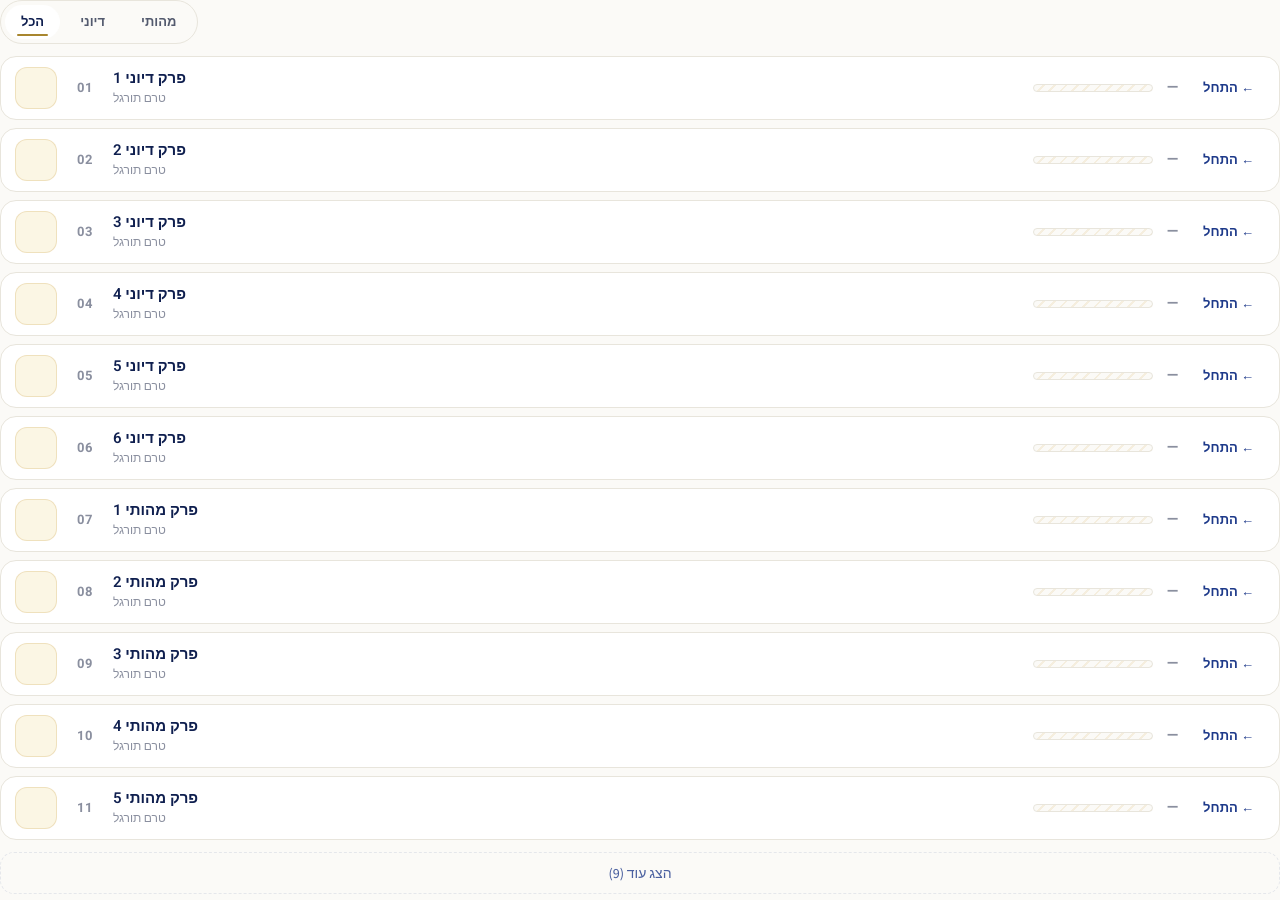
Test: MasteryRowsClient › switching the filter resets the collapsed view (showAll → false)
The image size is (1280, 900).
Click the button with test id "mastery-toggle-desktop": (640, 872) [0, 852, 1279, 894]
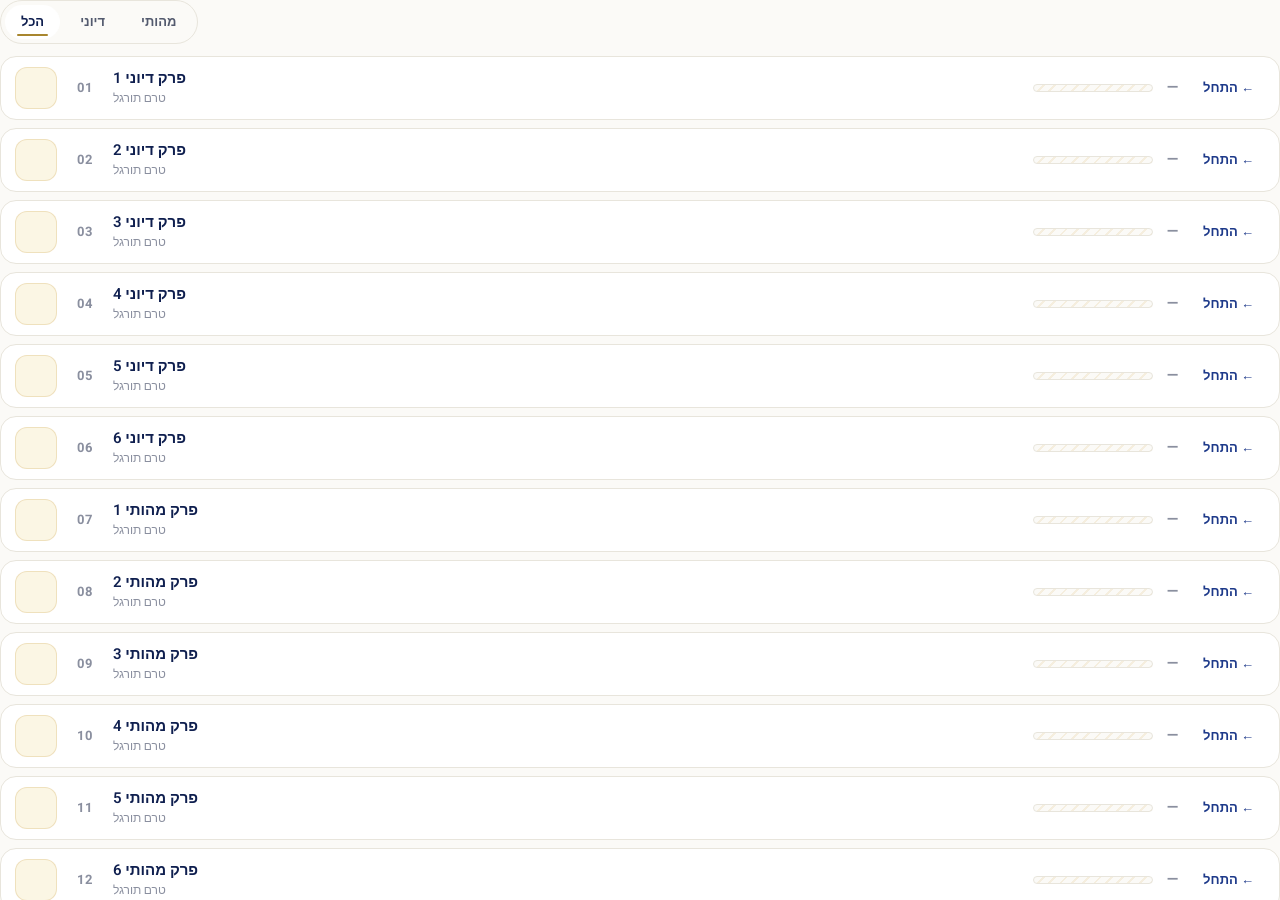
Click the radio button labelled "מהותי": (159, 22) [125, 5, 192, 38]
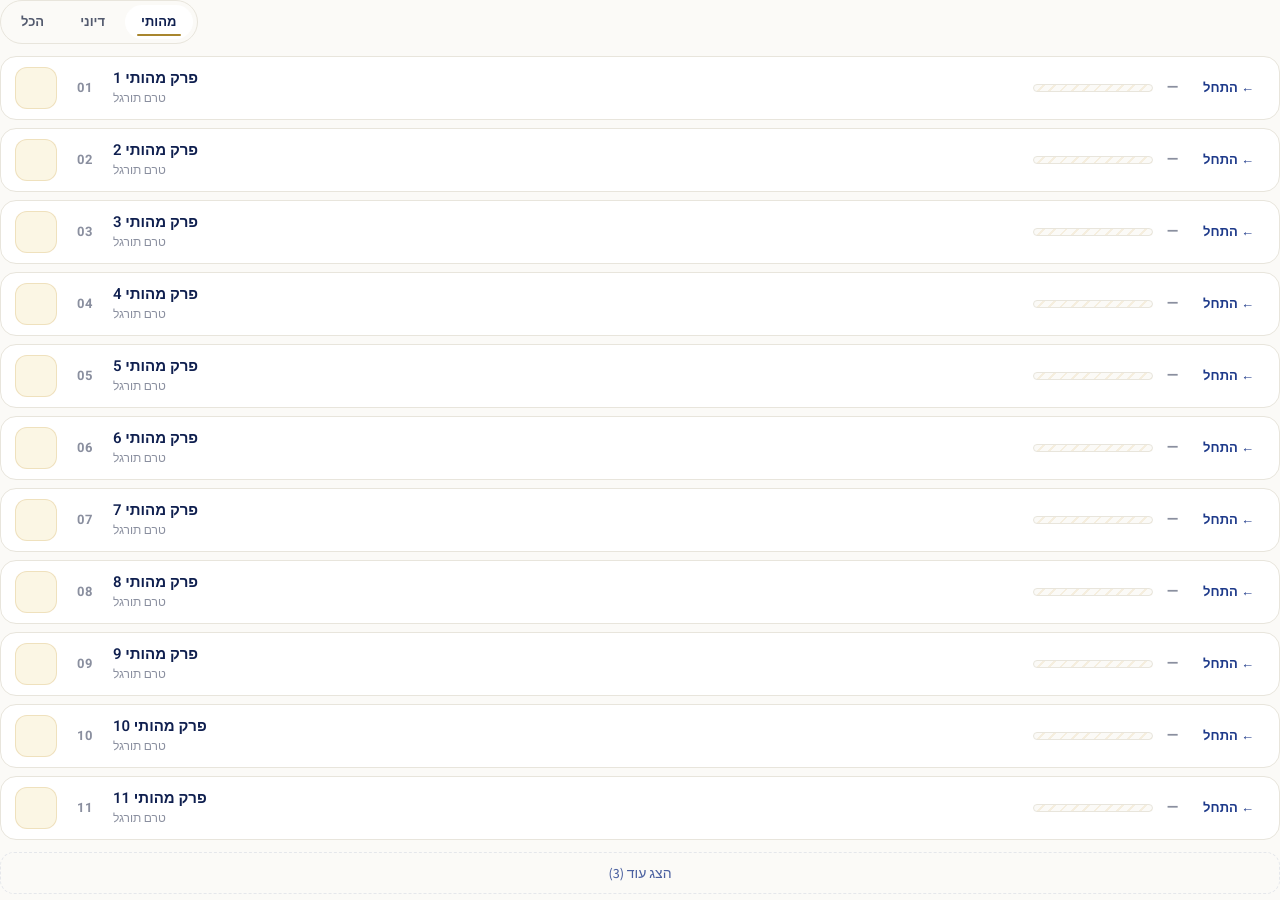
Expected: the button with test id "mastery-toggle-desktop" is shown, [0, 852, 1279, 894]
Result: the number of links is 11
